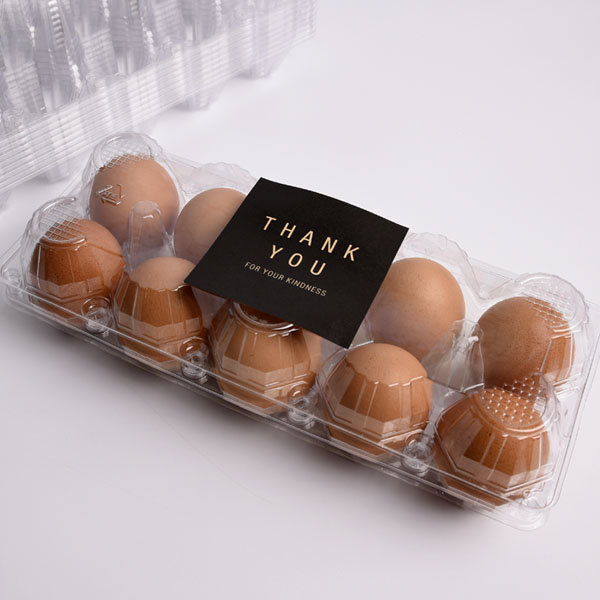egg: (34, 152, 579, 497)
